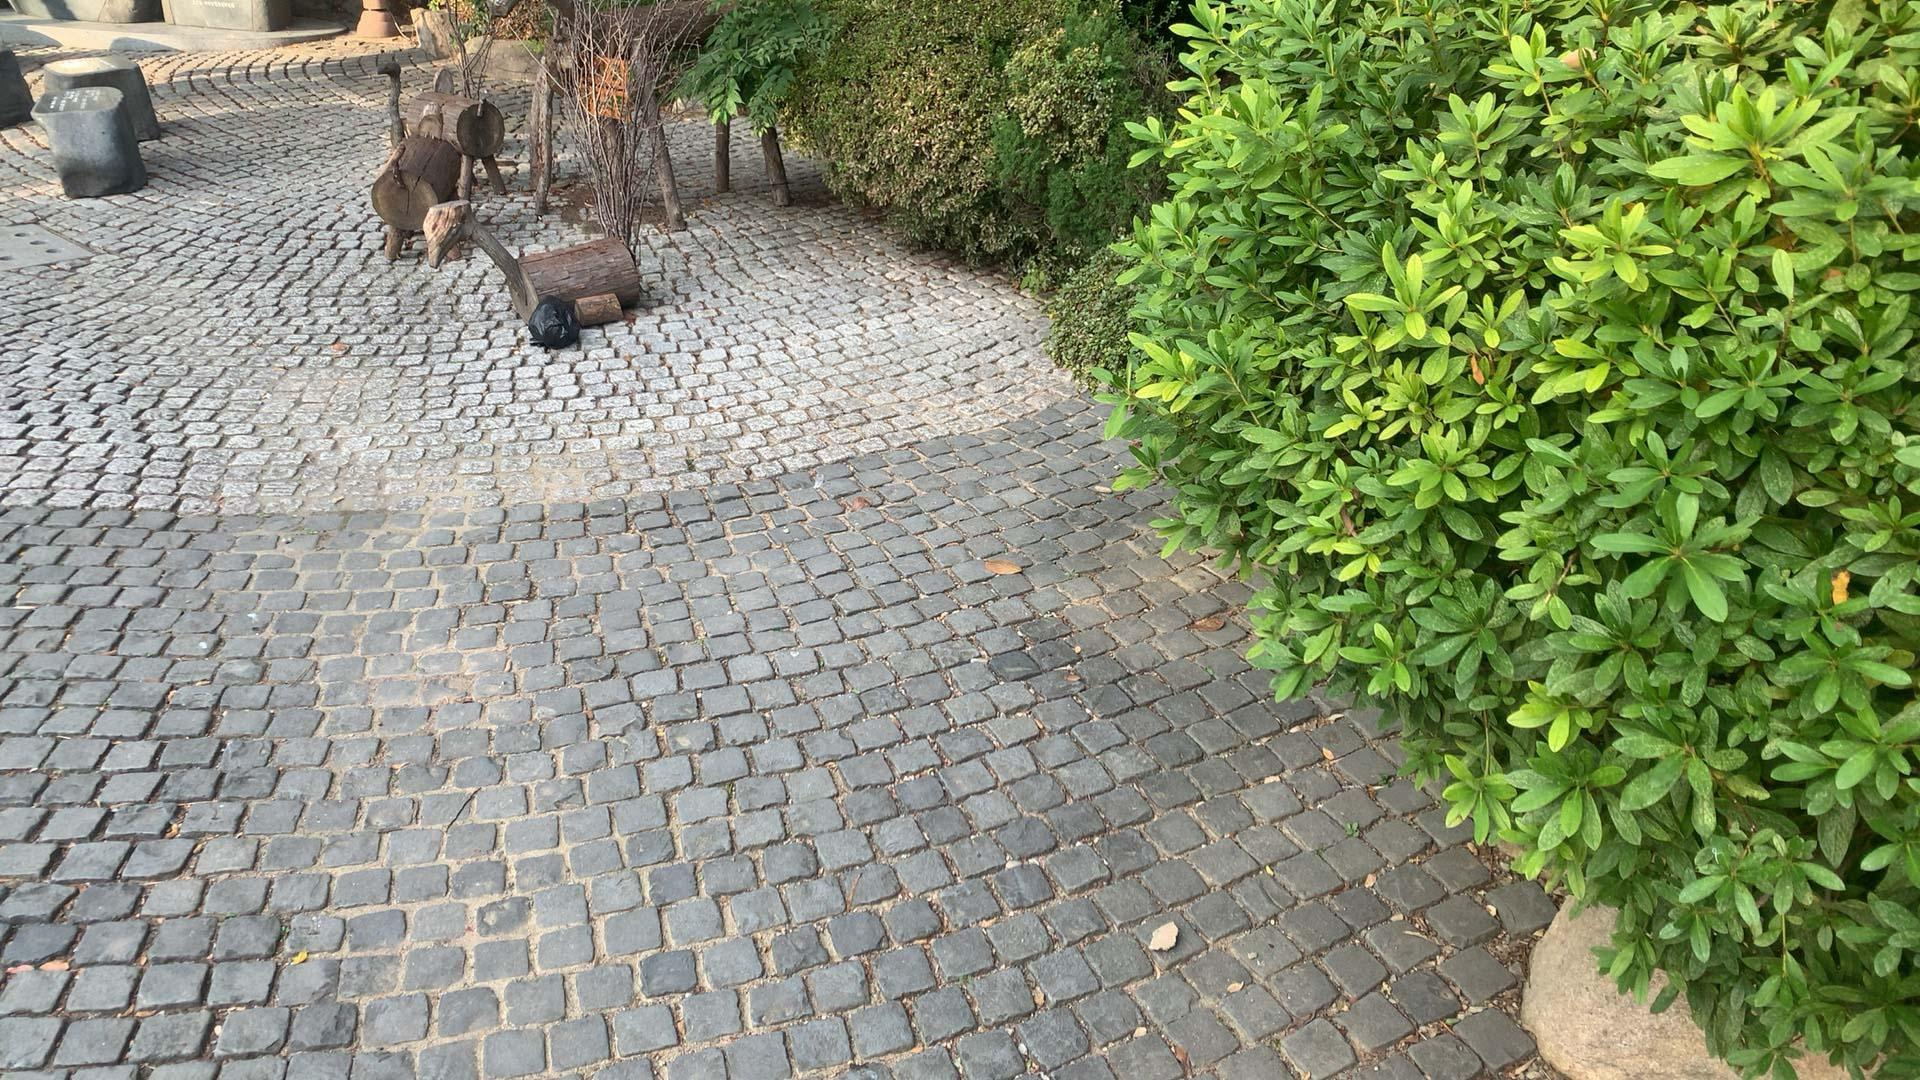black_bag: (521, 289, 582, 348)
